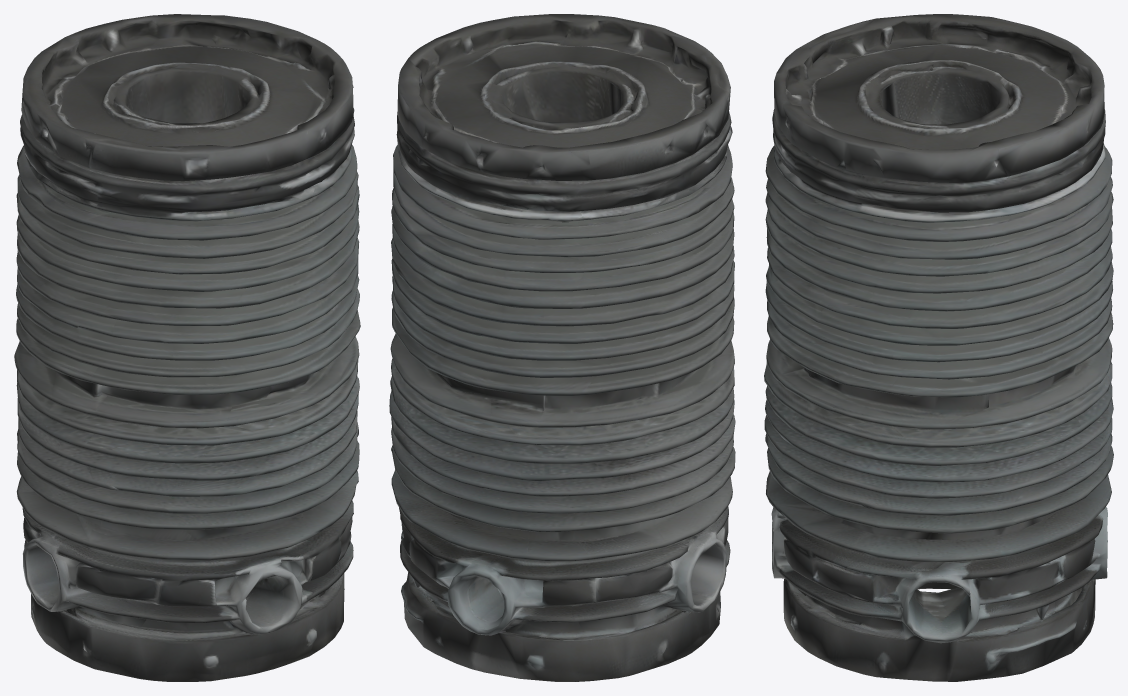
File: cylinder-liner.glb
The picture shows the model from 3 angles, left to right: view 1: azimuth 30°, elevation 25°; view 2: azimuth 150°, elevation 25°; view 3: azimuth 270°, elevation 25°; orthographic projection.
Bounding box in the file's own units: 1.17 × 2 × 1.17.
1 material, 1 textured.
